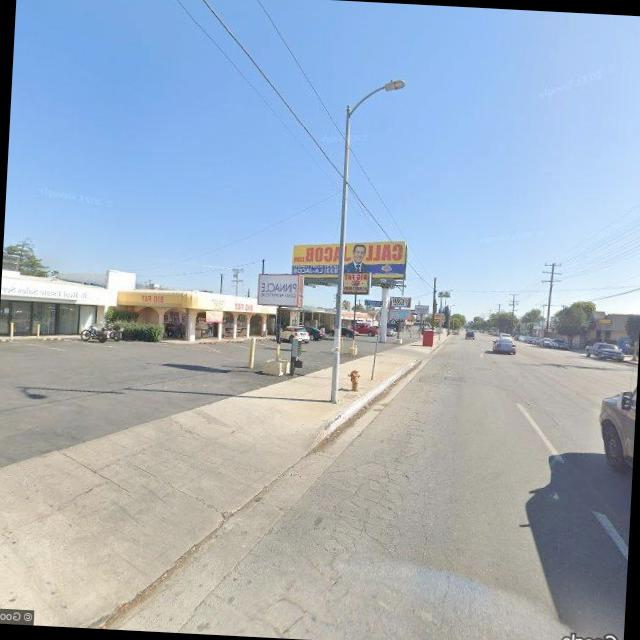crack: (282, 376, 439, 625)
